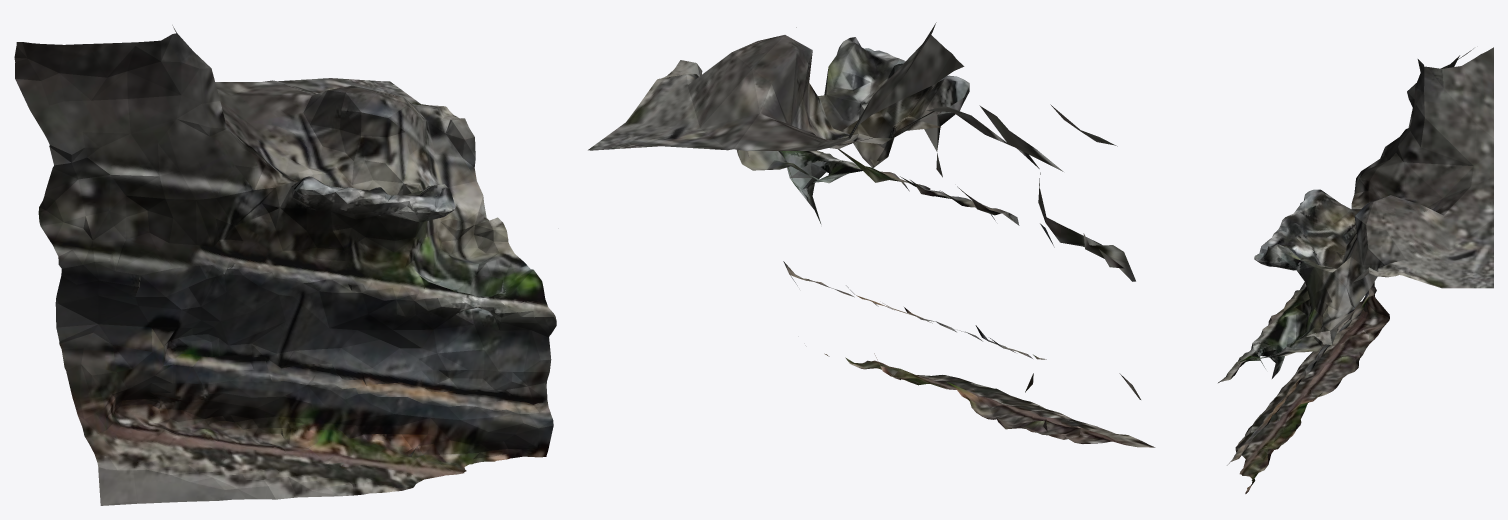
The picture shows the model from 3 angles, left to right: view 1: azimuth 30°, elevation 25°; view 2: azimuth 150°, elevation 25°; view 3: azimuth 270°, elevation 25°; orthographic projection. The views are drawn at different scales.
Size of the model in its own units: 0.8374 by 0.8374 by 0.6348.
Materials: 3 (3 with a texture image).
